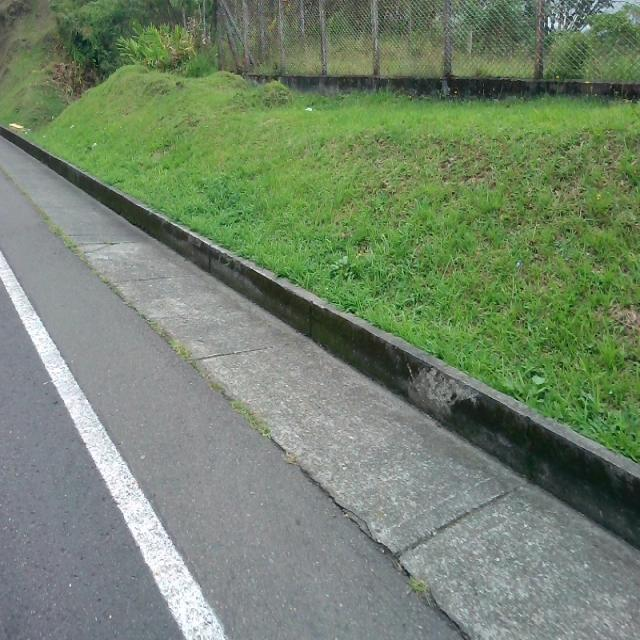DITCH: (1, 125, 638, 638)
